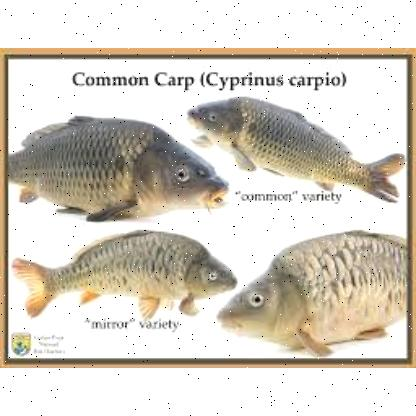ikan-mas: (7, 114, 226, 226), (220, 226, 410, 350), (14, 224, 236, 322), (192, 94, 402, 196)
